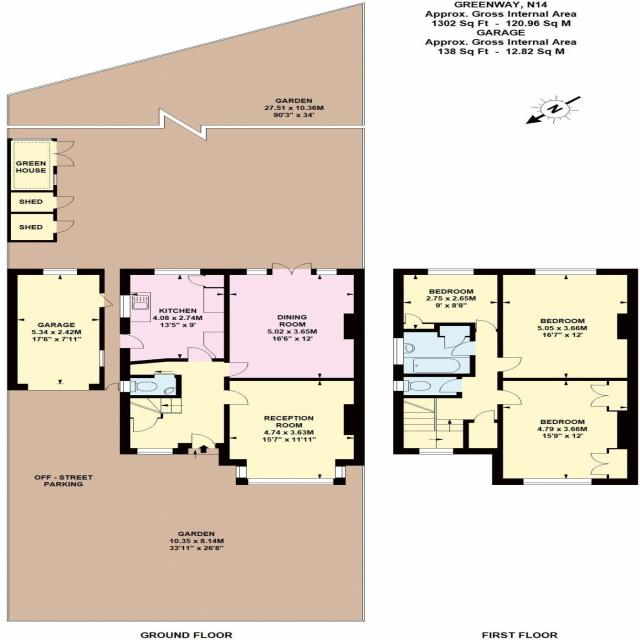DOOR: (497, 388, 523, 405), (224, 361, 250, 377), (497, 356, 523, 372), (224, 389, 249, 405), (187, 347, 213, 362), (192, 433, 218, 448), (120, 334, 145, 349), (474, 318, 498, 332), (472, 410, 496, 423), (402, 313, 424, 324)
DOUBLE DOOR: (587, 449, 634, 479), (588, 382, 632, 408), (271, 262, 313, 276)
ROOM: (224, 262, 365, 381), (497, 269, 639, 381), (492, 378, 639, 486), (224, 378, 366, 485), (119, 268, 230, 365), (393, 269, 503, 332)
WINDOW: (247, 478, 335, 486), (534, 268, 598, 276), (520, 478, 592, 485), (426, 268, 475, 275), (154, 268, 202, 275), (393, 338, 404, 365), (119, 294, 131, 318), (136, 448, 174, 455), (42, 268, 78, 275), (418, 448, 454, 455), (245, 268, 268, 276), (235, 465, 248, 479), (335, 465, 346, 479), (315, 269, 338, 275), (393, 379, 404, 391), (99, 349, 105, 367)
